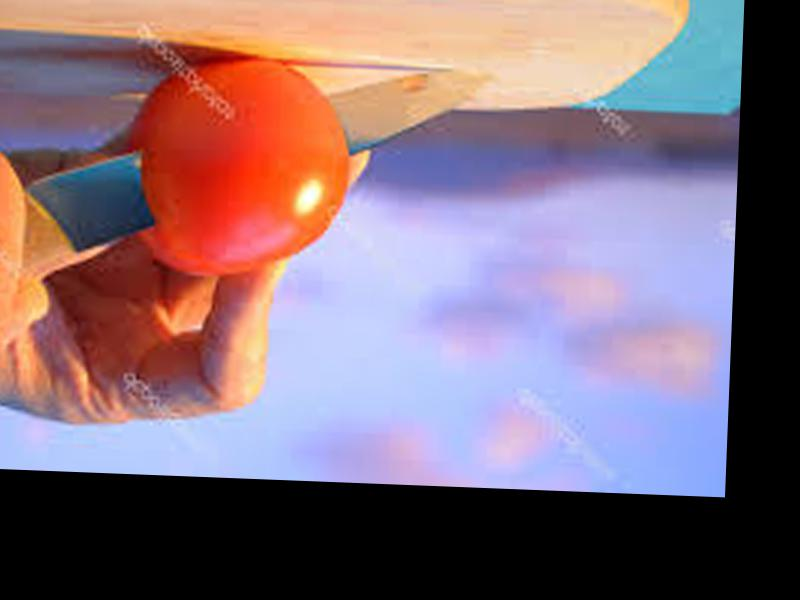Tomato: (122, 49, 356, 277)
